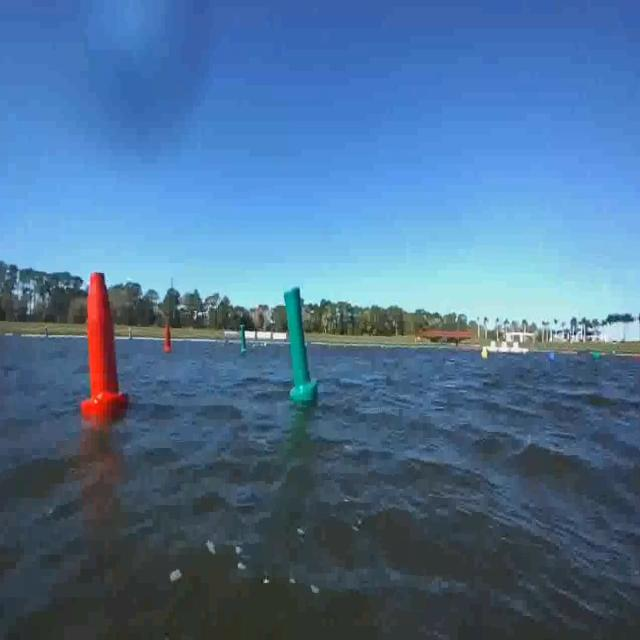blue-buoy: (550, 351, 557, 363)
green-column-buoy: (282, 284, 318, 402), (240, 325, 249, 354)
red-column-buoy: (84, 272, 130, 419), (162, 326, 171, 354)
yellow-buoy: (482, 347, 490, 361)
